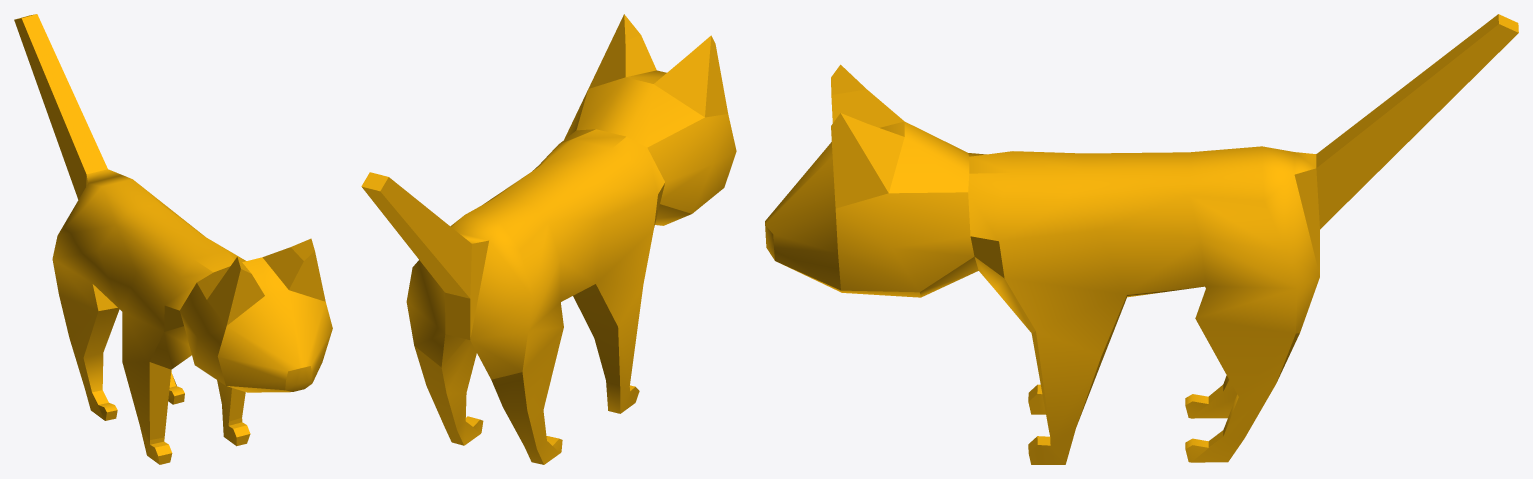
File: cat.fbx
3 views of the same model, side by side, from view 1: azimuth 30°, elevation 25°; view 2: azimuth 150°, elevation 25°; view 3: azimuth 270°, elevation 25° (orthographic). The views are drawn at different scales.
Parts seen in each view (by area): view 1: pCube1; view 2: pCube1; view 3: pCube1.
Boxes of the visible parts, left/top/right/bottom form: pCube1: left=14, top=14, right=332, bottom=464; pCube1: left=361, top=14, right=736, bottom=464; pCube1: left=765, top=14, right=1518, bottom=464.
Size of the model in its own units: 0.4853 by 1.25 by 2.05.
